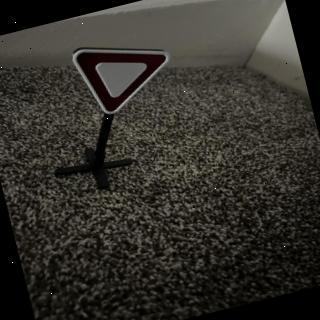sign_yield: (71, 28, 182, 122)
